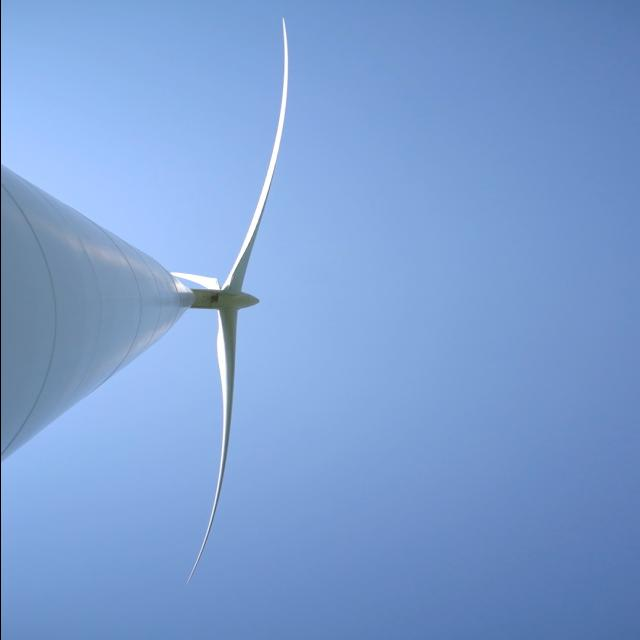blade 1: (175, 258, 217, 284)
blade 2: (242, 14, 308, 238)
blade 3: (185, 348, 251, 571)
